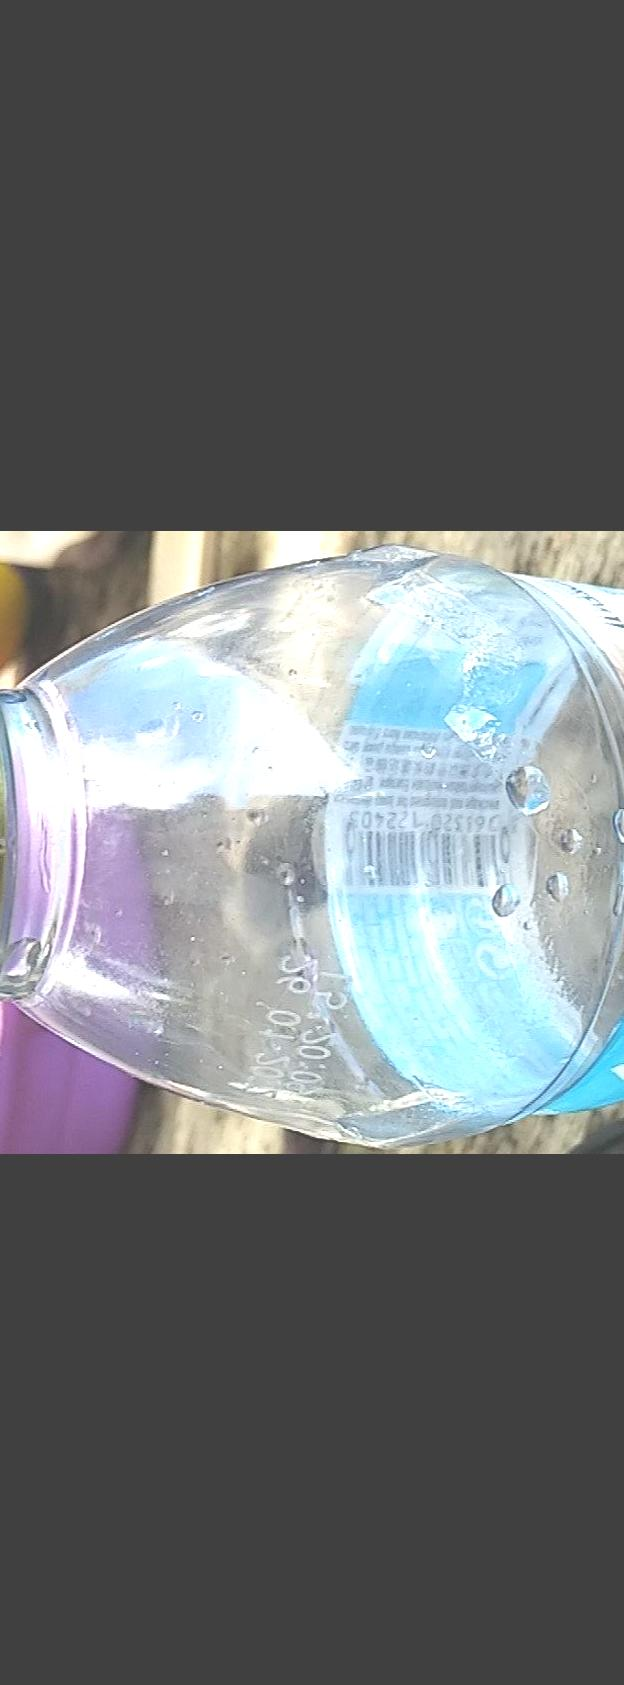bottle: (0, 535, 624, 1154)
